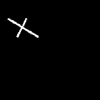single_crochet: (8, 19, 37, 36)
